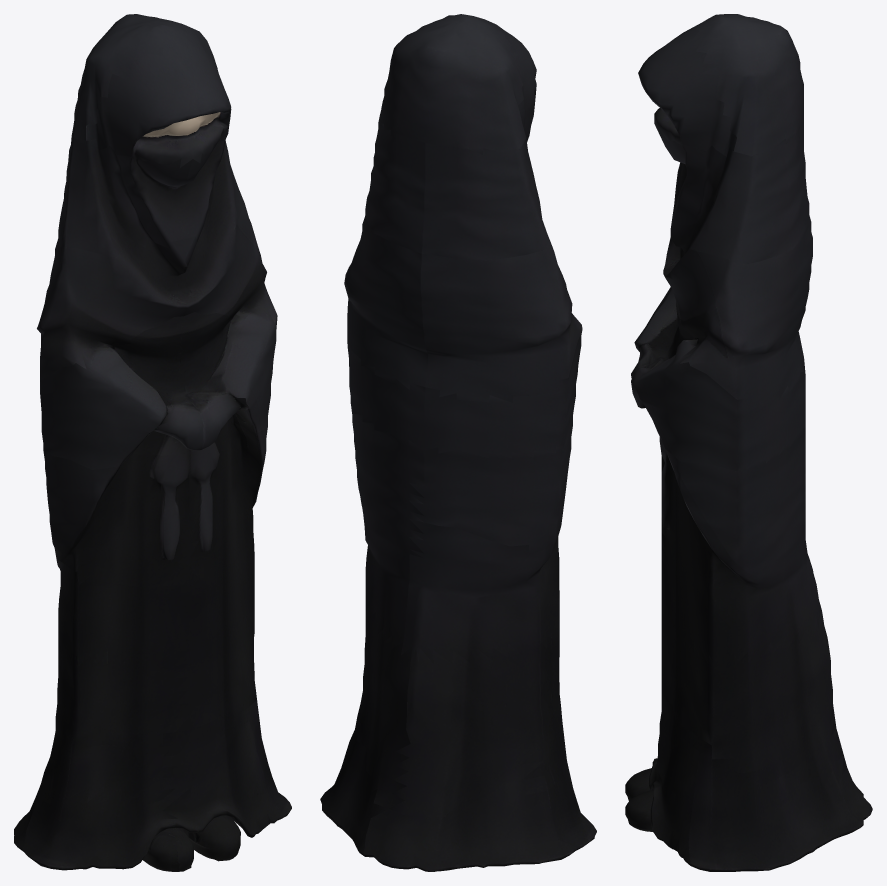
The model's file is npc_mourner_forhire.glb.
3 renders of one model, left to right at view 1: azimuth 30°, elevation 25°; view 2: azimuth 150°, elevation 25°; view 3: azimuth 270°, elevation 25°, orthographic.
Bounding box in the file's own units: 0.6223 × 1.91 × 0.5362.
1 material, 1 textured.
